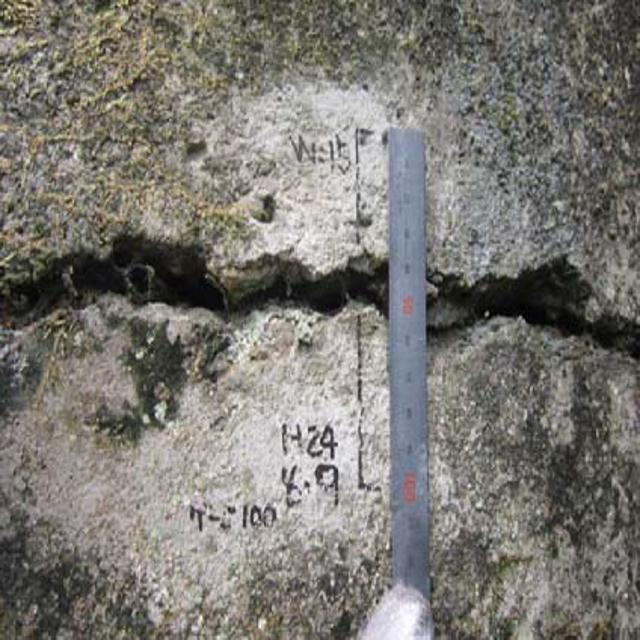crack: (1, 222, 392, 358), (443, 230, 640, 389)
